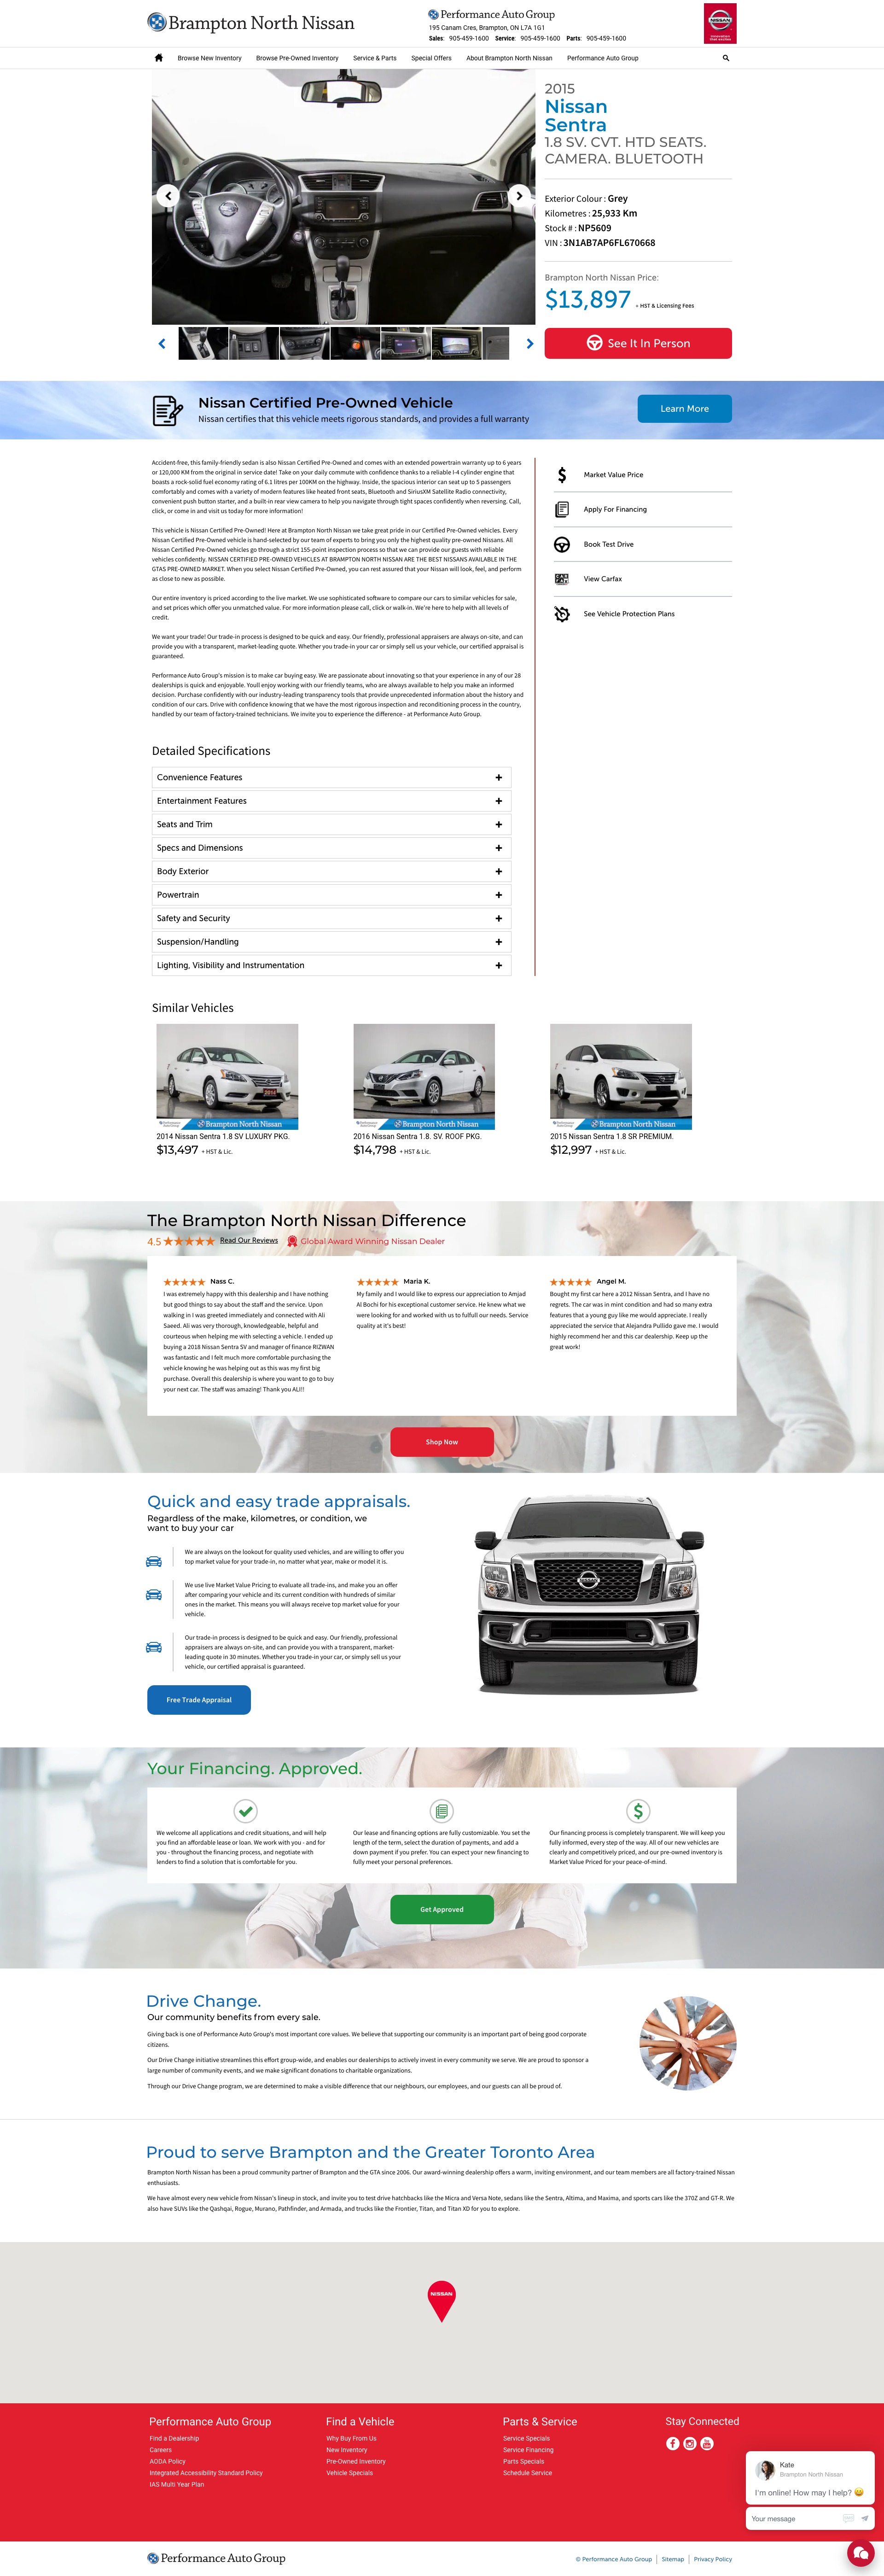car: (527, 338, 534, 350)
